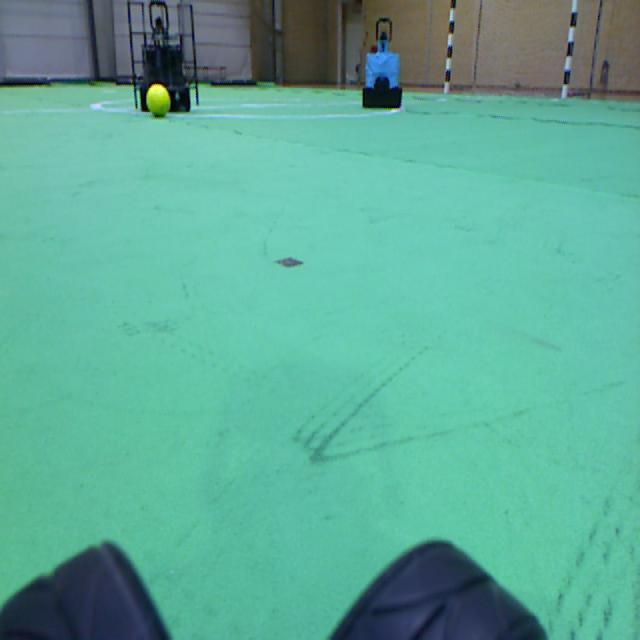ball: (146, 84, 170, 116)
robot: (141, 0, 189, 112)
